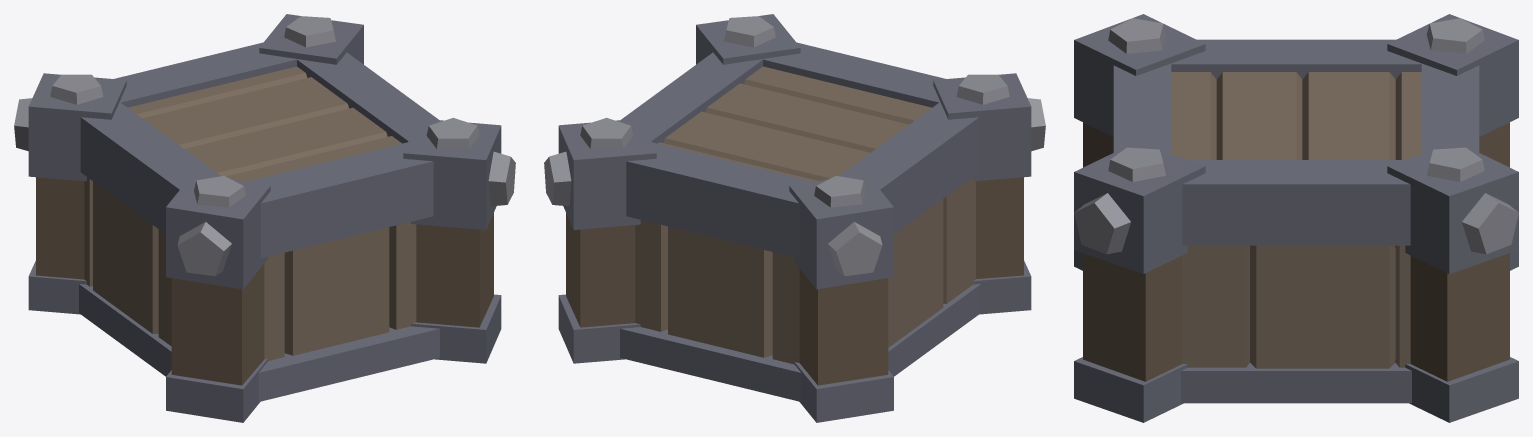
The picture shows the model from 3 angles, left to right: view 1: azimuth 30°, elevation 25°; view 2: azimuth 150°, elevation 25°; view 3: azimuth 270°, elevation 25°; orthographic projection. The views are drawn at different scales.
Visible parts, largest first — view 1: box; view 2: box; view 3: box.
Part boxes in pixels (<box>): box: <box>14,14,515,422</box>; box: <box>544,14,1045,422</box>; box: <box>1074,14,1518,422</box>.
Bounding box in the file's own units: 0.6846 × 0.4156 × 0.7.
Materials: 1 (1 with a texture image).
